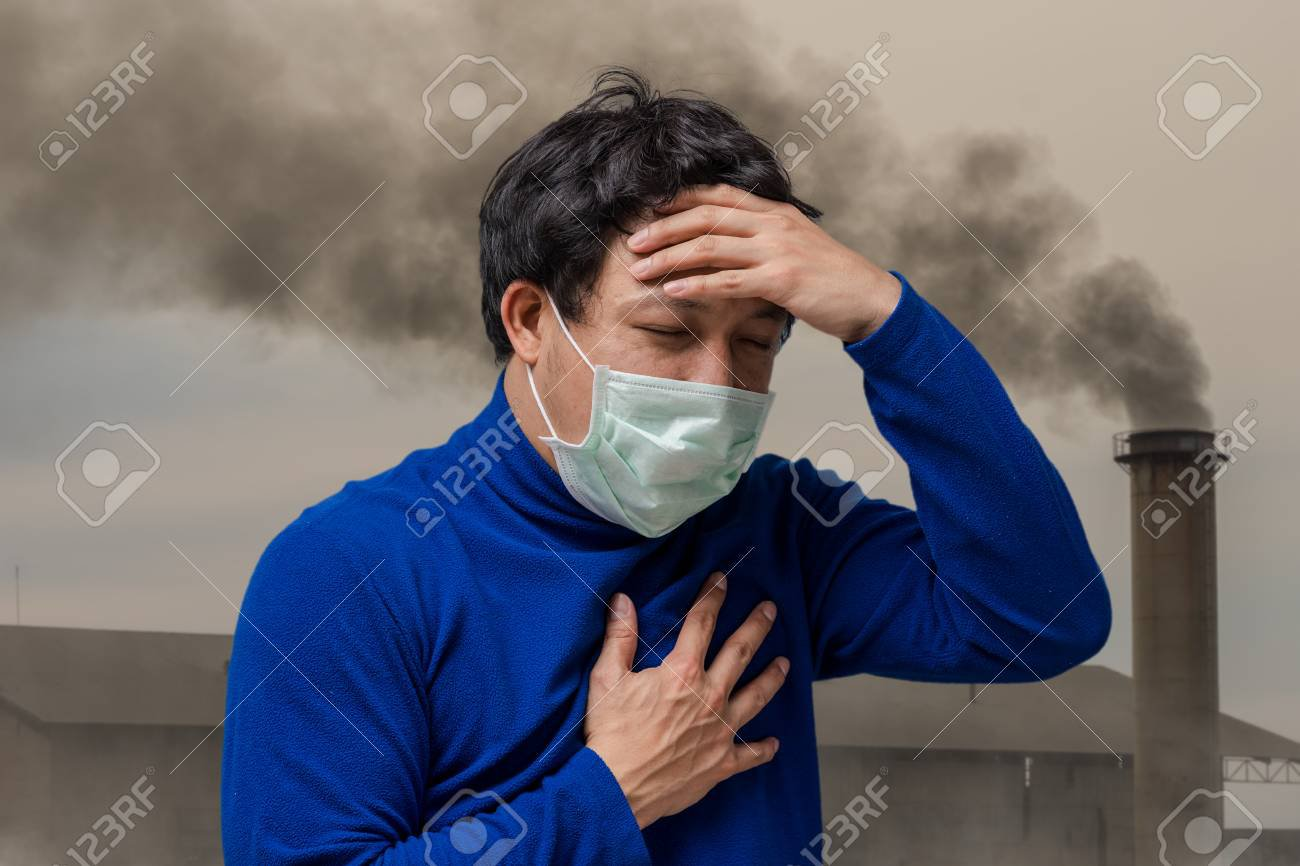mask: (448, 83, 838, 546)
